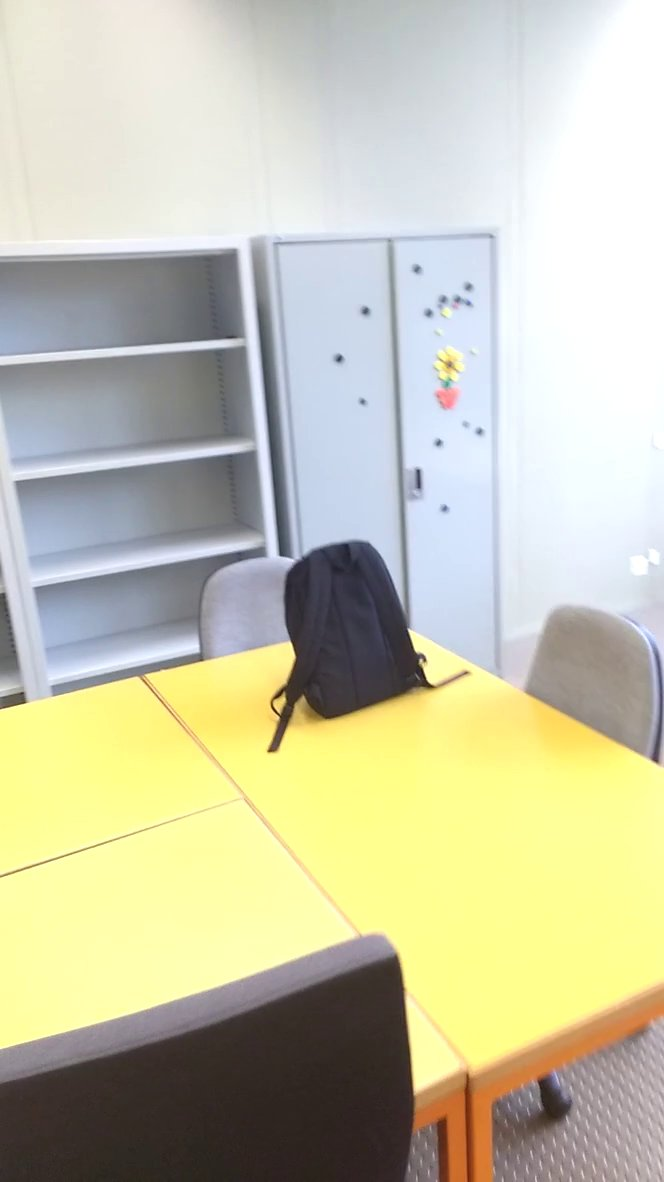bag: (264, 535, 480, 757)
chair: (509, 583, 664, 776), (188, 547, 324, 668)
